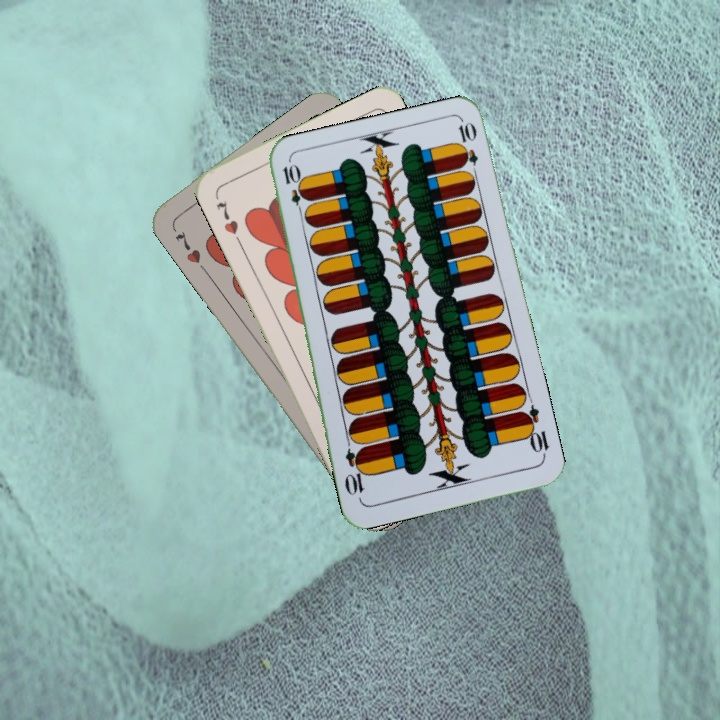E10: (517, 402, 552, 460), (278, 161, 308, 219)
H7: (171, 227, 204, 266), (212, 197, 241, 237)
